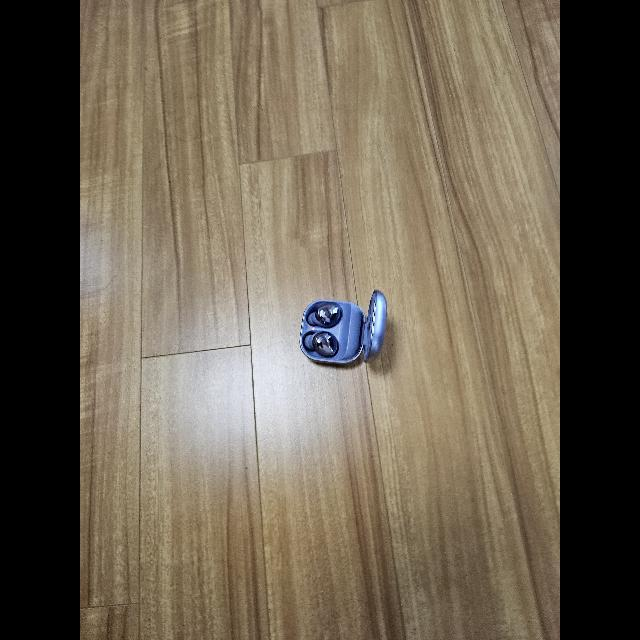buds-pro: (300, 287, 390, 371)
